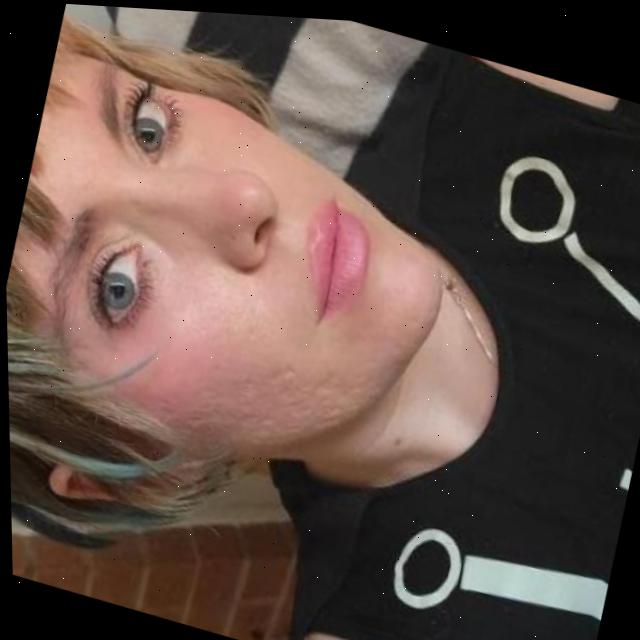Acne: (196, 323, 373, 478)
